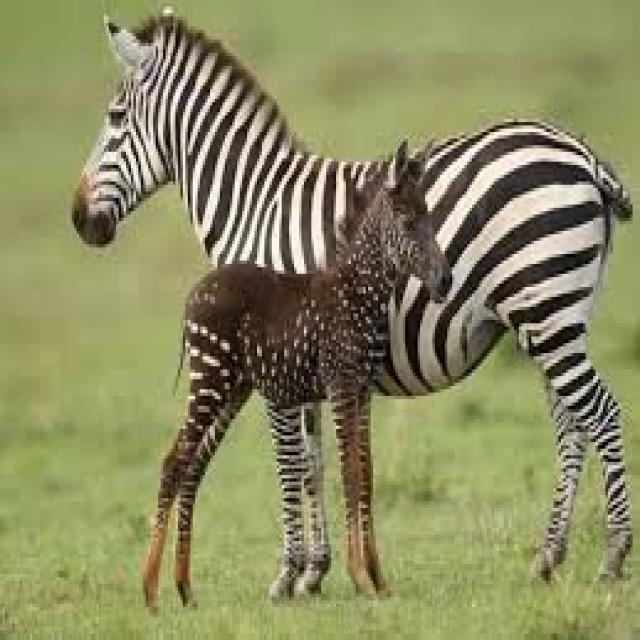Zebra: (73, 11, 636, 578), (141, 154, 454, 602)
